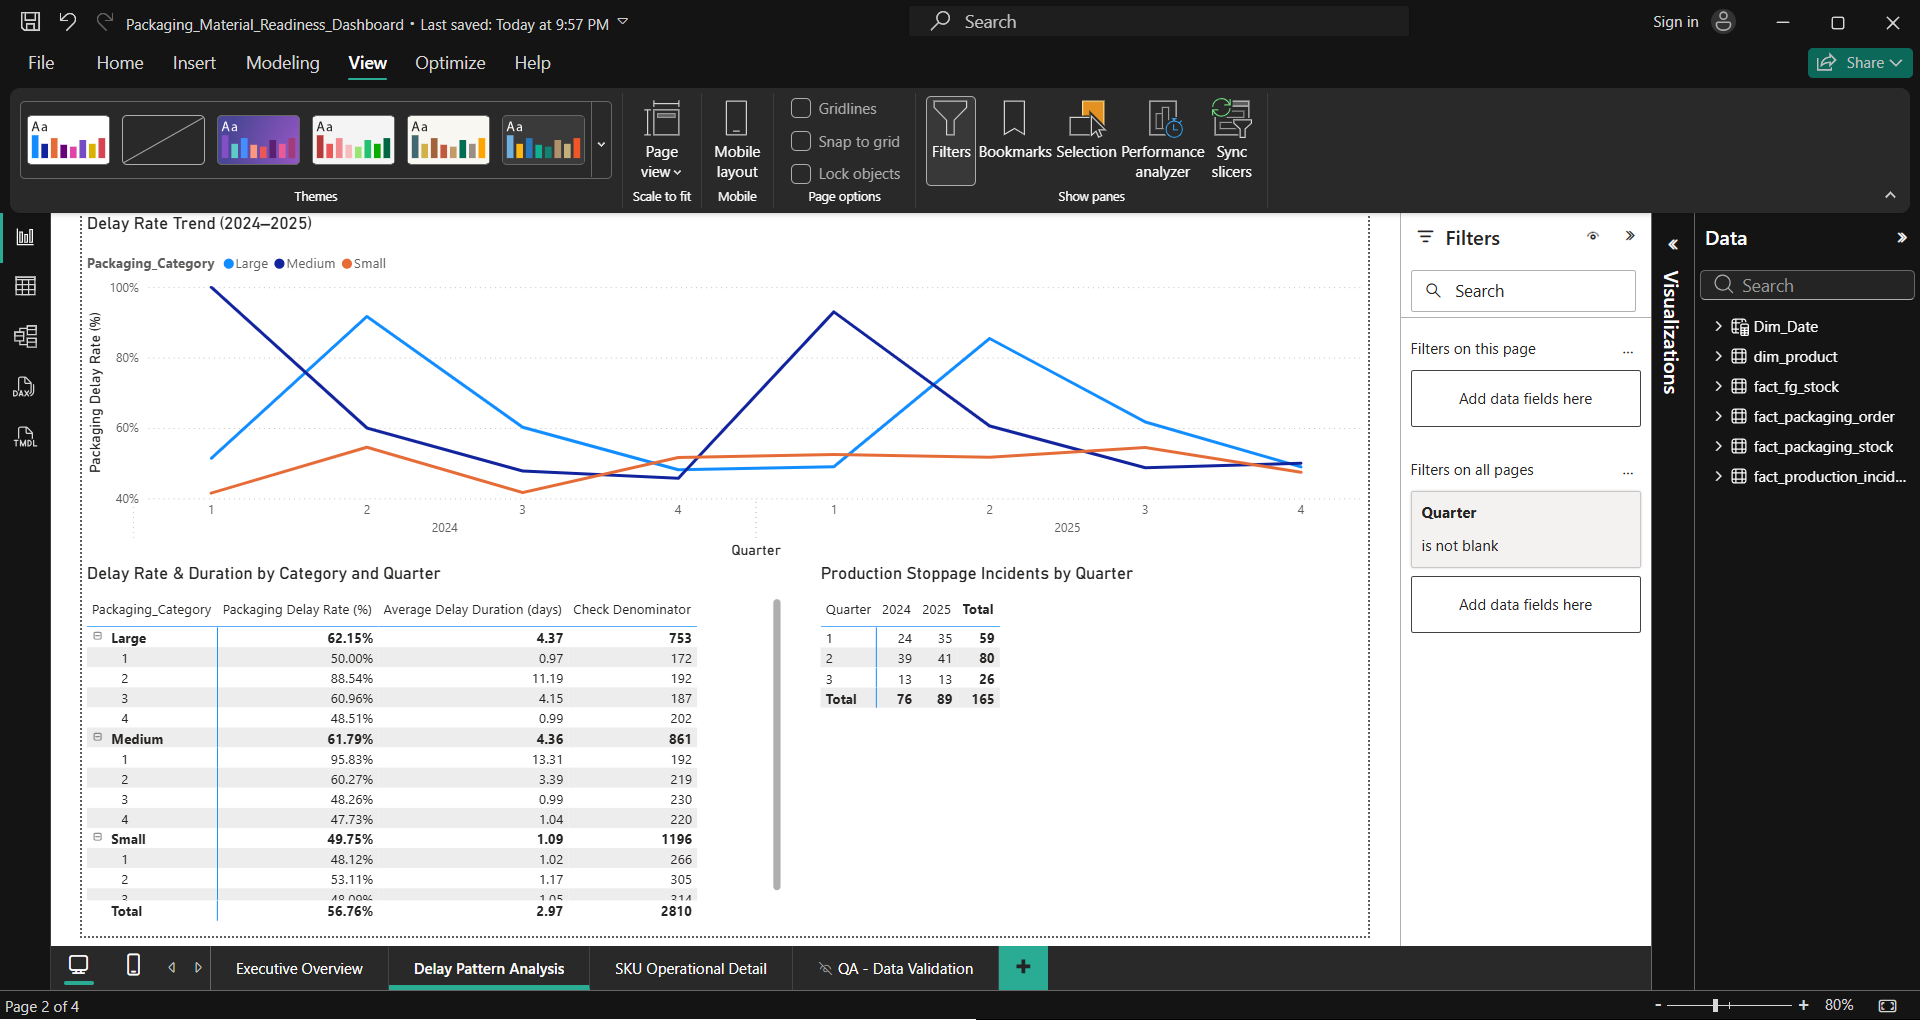

Layout of this report page (visuals, bound fields, positions):
{"tool":"powerbi","page":{"name":"Delay Pattern Analysis","canvas":[1280,720],"ordinal":1},"visuals":[{"type":"lineChart","title":"Delay Rate Trend (2024–2025)","fields":{"Y":["fact_packaging_order.Packaging Delay Rate (%)"],"Series":["dim_product.Packaging_Category"],"Category":["Dim_Date.Date Hierarchy.Year","Dim_Date.Date Hierarchy.Quarter","Dim_Date.Date Hierarchy.Month"]},"box":[0,0,1280.3,348.5],"z":0},{"type":"pivotTable","title":"Delay Rate & Duration by Category and Quarter","fields":{"Rows":["dim_product.Packaging_Category","Dim_Date.Date Hierarchy.Quarter"],"Values":["fact_packaging_order.Packaging Delay Rate (%)","fact_packaging_order.Average Delay Duration (days)","fact_packaging_order.Check Denominator"]},"box":[0,348.5,701.2,360.9],"z":1000},{"type":"pivotTable","title":"Production Stoppage Incidents by Quarter","fields":{"Rows":["Dim_Date.Quarter"],"Values":["fact_production_incident.Incident Count"],"Columns":["Dim_Date.Year"]},"box":[730,348.5,344.4,177],"z":2000}]}

Visuals, with their boxes on the page's 1280x720 design canvas (x1, y1, x2, y2). These are canvas units, not pixel positions in the 1920x1020 screenshot, which may show the page scaled, cropped or inside an application window:
"Delay Rate Trend (2024–2025)" lineChart: [left=0, top=0, right=1280, bottom=348]
"Delay Rate & Duration by Category and Quarter" pivotTable: [left=0, top=348, right=701, bottom=709]
"Production Stoppage Incidents by Quarter" pivotTable: [left=730, top=348, right=1074, bottom=526]
